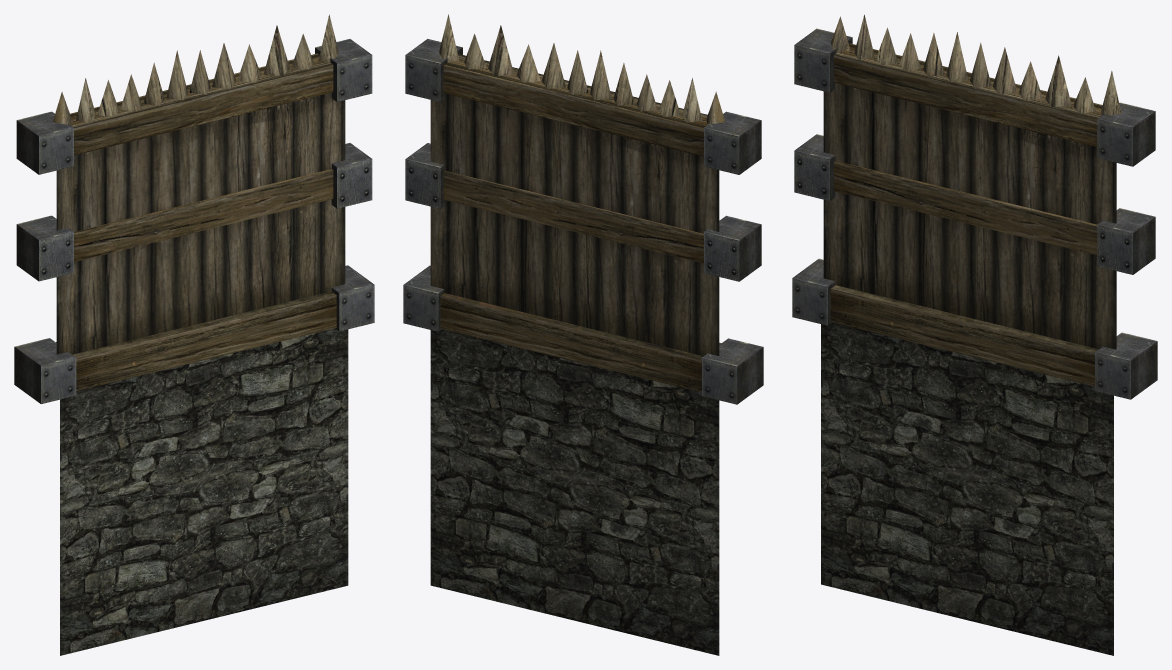
The model's file is fortms_fence_body01.glb.
The picture shows the model from 3 angles, left to right: view 1: azimuth 30°, elevation 25°; view 2: azimuth 150°, elevation 25°; view 3: azimuth 330°, elevation 25°; orthographic projection.
Parts seen in each view (by area): view 1: fortMS_fence_body01; view 2: fortMS_fence_body01; view 3: fortMS_fence_body01.
Boxes of the visible parts, box(x1,y1,x2,y2) form: fortMS_fence_body01: box(14, 14, 374, 655); fortMS_fence_body01: box(403, 14, 763, 655); fortMS_fence_body01: box(792, 14, 1157, 655).
Size of the model in its own units: 6.82 by 11.13 by 0.9388.
1 material, 1 textured.
